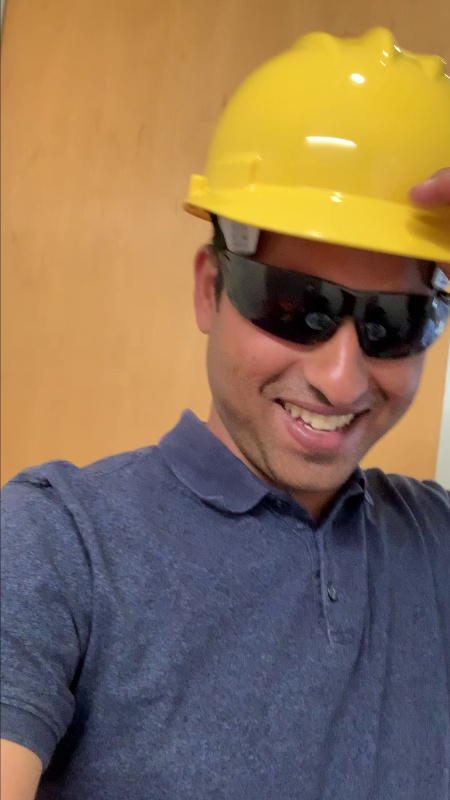glasses: (202, 243, 450, 360)
helmet: (180, 26, 450, 267)
